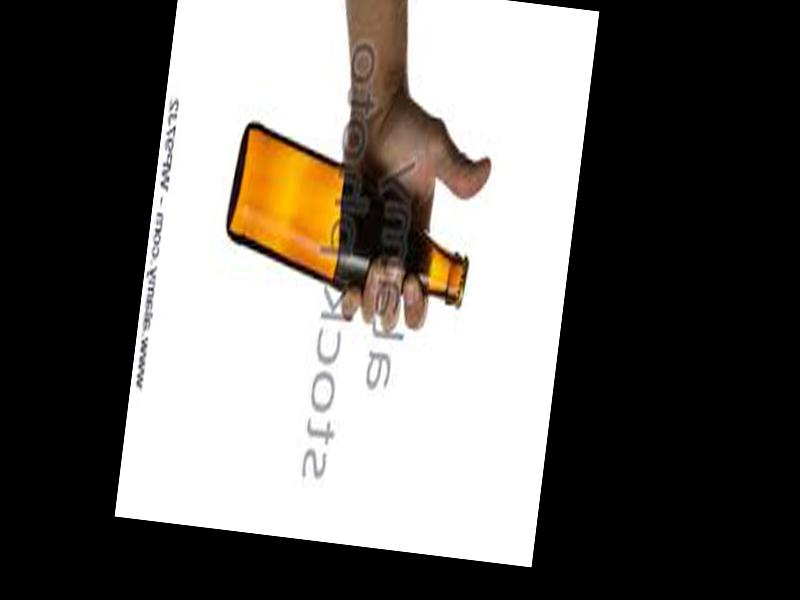Beer: (221, 118, 480, 312)
